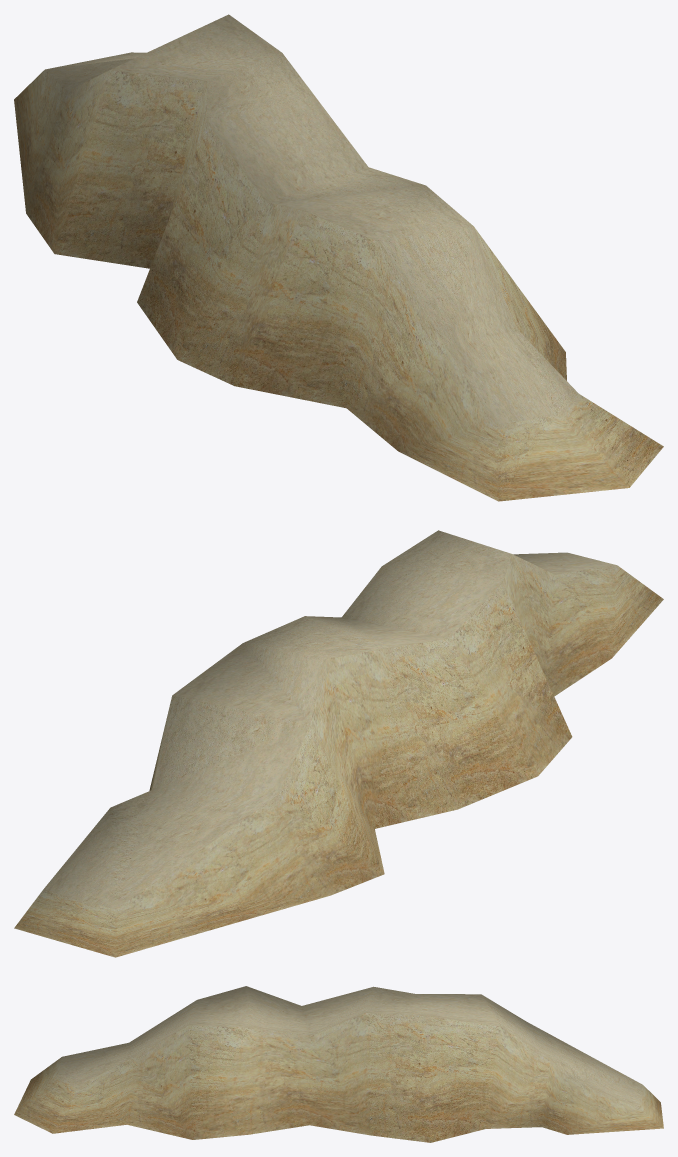
The model's file is rock_beach_spine_l4.fbx.
3 renders of one model, top to bottom at view 1: azimuth 30°, elevation 25°; view 2: azimuth 150°, elevation 25°; view 3: azimuth 270°, elevation 25°, orthographic. The views are drawn at different scales.
Parts seen in each view (by area): view 1: mesh_node; view 2: mesh_node; view 3: mesh_node.
Boxes of the visible parts, <box> form: mesh_node: <box>14,14,663,501</box>; mesh_node: <box>14,530,663,957</box>; mesh_node: <box>14,986,663,1142</box>.
Bounding box in the file's own units: 7.87 × 4.48 × 25.22.
